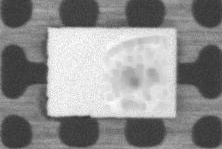DIE_INK: (149, 19, 222, 76)
